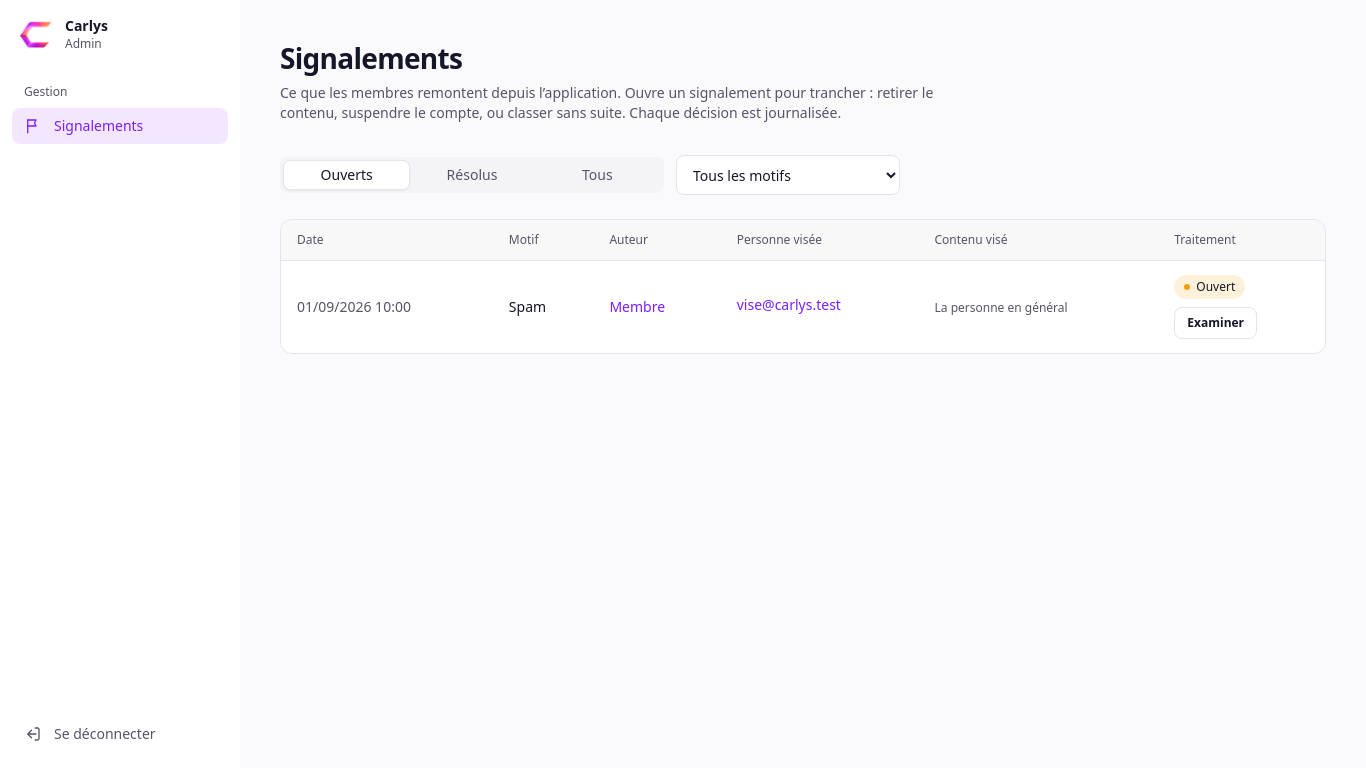
Test case: Page Signalements › décision › rien à retirer quand le signalement vise la personne en général
The width and height of the screenshot is (1366, 768).
Click the button "Examiner" at coordinates (1216, 323), box [1174,307,1257,339]
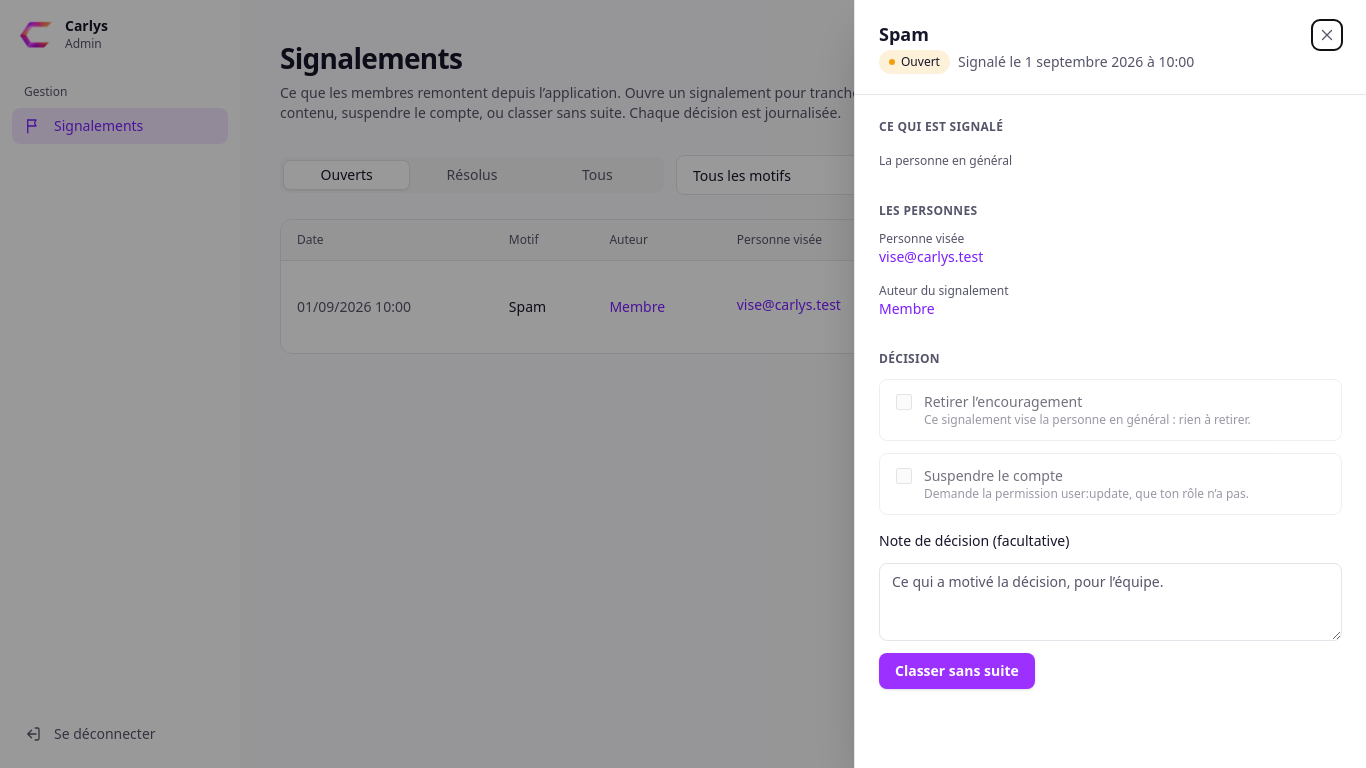
Result: the checkbox labelled "Retirer" is disabled at [896,394,912,410]
